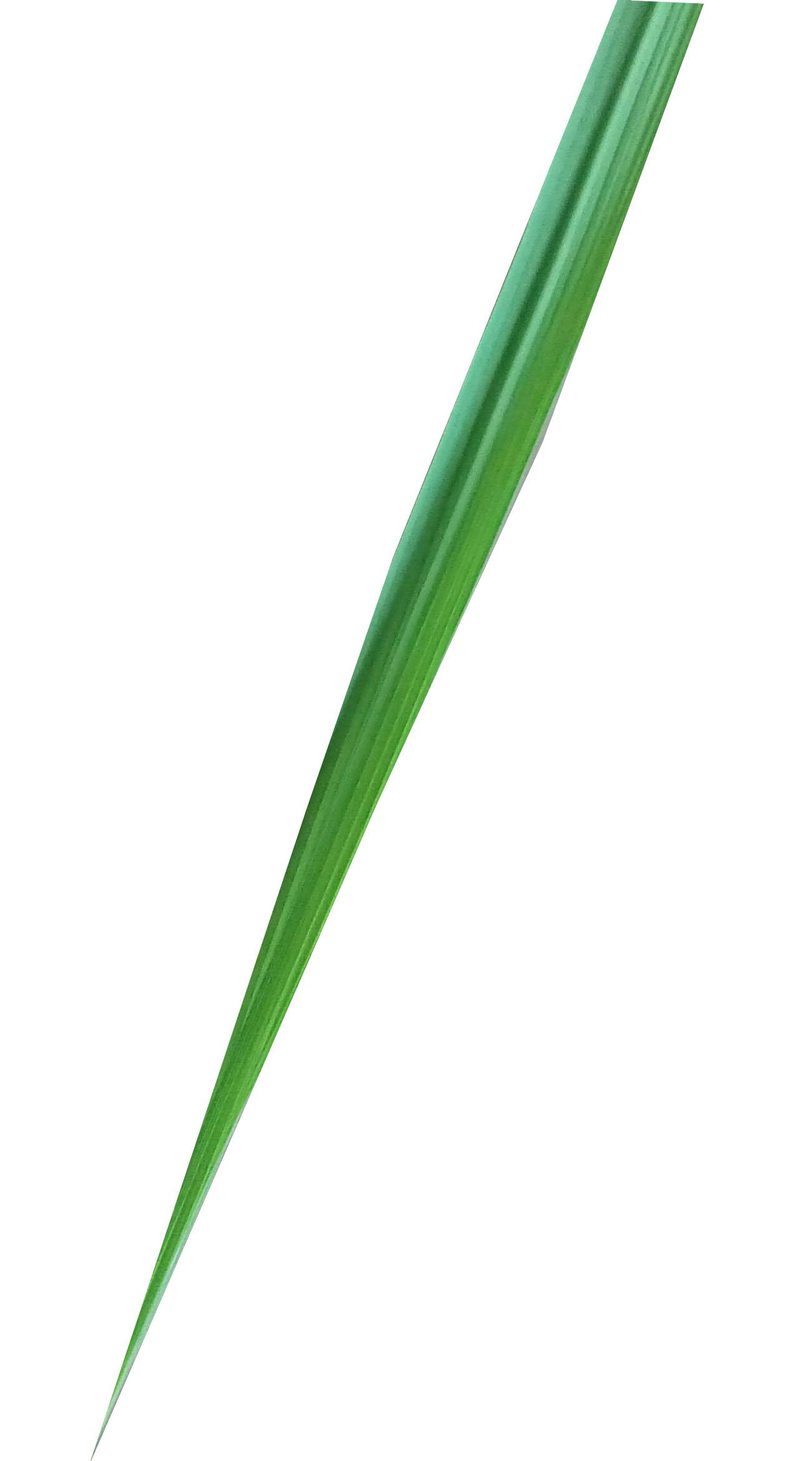Healthy: (90, 0, 707, 1461)
